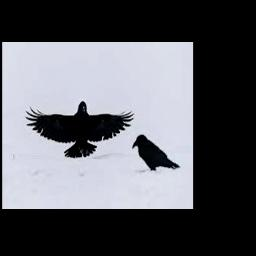Crow: (25, 101, 134, 158), (132, 134, 180, 170)
